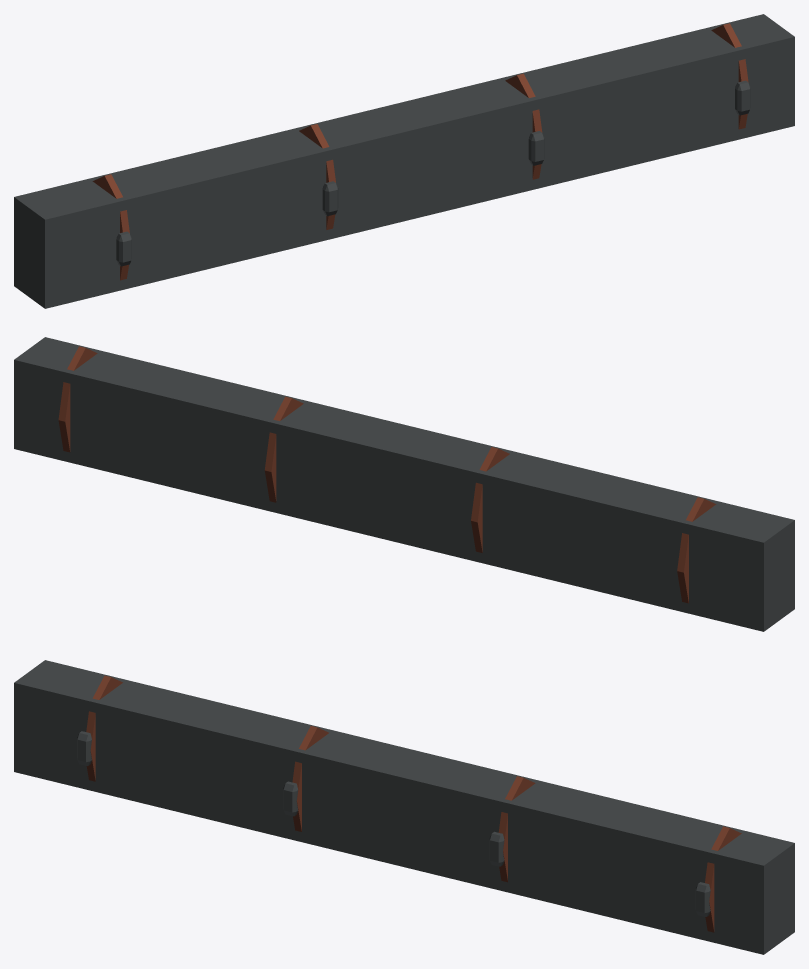
File: pipe_run.glb
The picture shows the model from 3 angles, top to bottom: view 1: azimuth 30°, elevation 25°; view 2: azimuth 150°, elevation 25°; view 3: azimuth 330°, elevation 25°; orthographic projection.
Visible parts, largest first — view 1: Tubo, Abrazadera.003, Abrazadera.002, Abrazadera.001, Abrazadera, Tornillo.001, Tornillo.002; view 2: Tubo, Abrazadera.003, Abrazadera.002, Abrazadera.001, Abrazadera; view 3: Tubo, Abrazadera.003, Abrazadera, Abrazadera.001, Abrazadera.002.
Boxes of the visible parts, x1,y1,x2,y2 form: Tubo: (14, 14, 794, 308); Abrazadera.003: (711, 23, 748, 129); Abrazadera.002: (505, 73, 542, 179); Abrazadera.001: (299, 124, 335, 229); Abrazadera: (92, 174, 129, 280); Tornillo.001: (322, 181, 338, 216); Tornillo.002: (528, 131, 544, 165); Tubo: (14, 337, 794, 631); Abrazadera.003: (58, 346, 97, 452); Abrazadera.002: (264, 396, 303, 502); Abrazadera.001: (471, 447, 509, 552); Abrazadera: (677, 497, 716, 603); Tubo: (14, 660, 794, 954); Abrazadera.003: (705, 826, 741, 932); Abrazadera: (86, 675, 122, 781); Abrazadera.001: (292, 726, 328, 831); Abrazadera.002: (498, 776, 535, 882).
Size of the model in its own units: 2 by 0.3 by 0.2.
